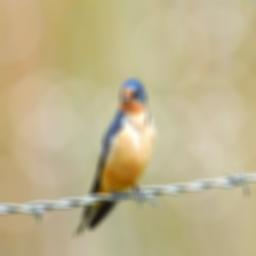Swallow: (72, 77, 157, 236)
